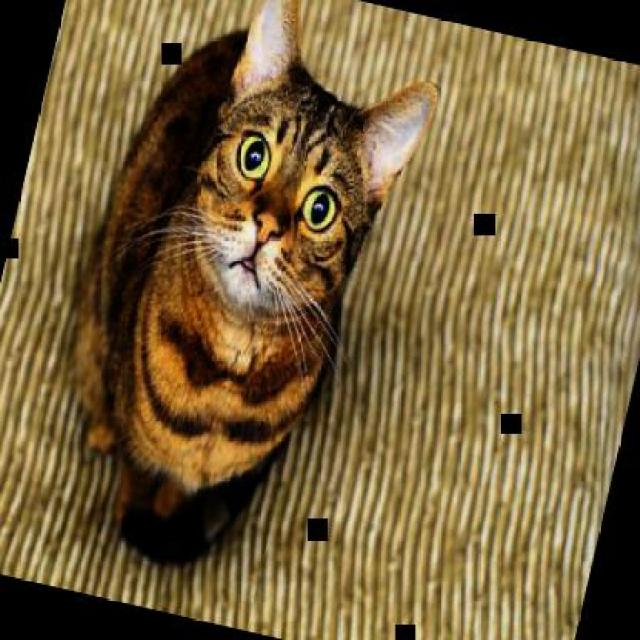cat: (22, 0, 460, 602)
